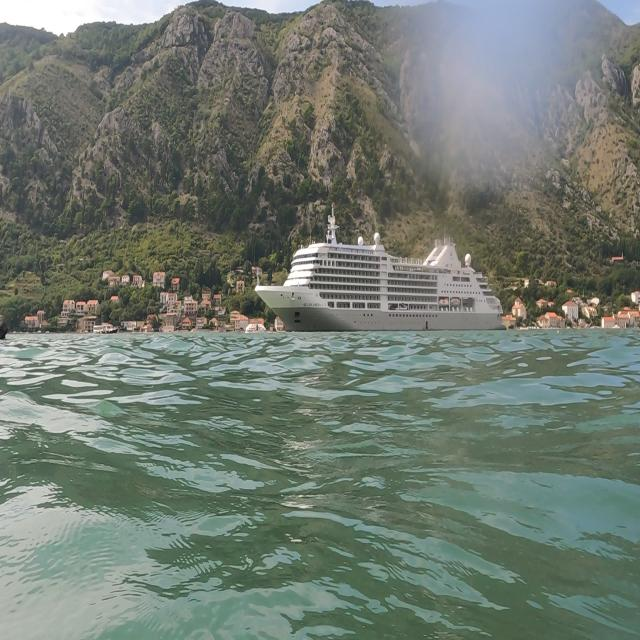boat: (253, 201, 507, 334)
